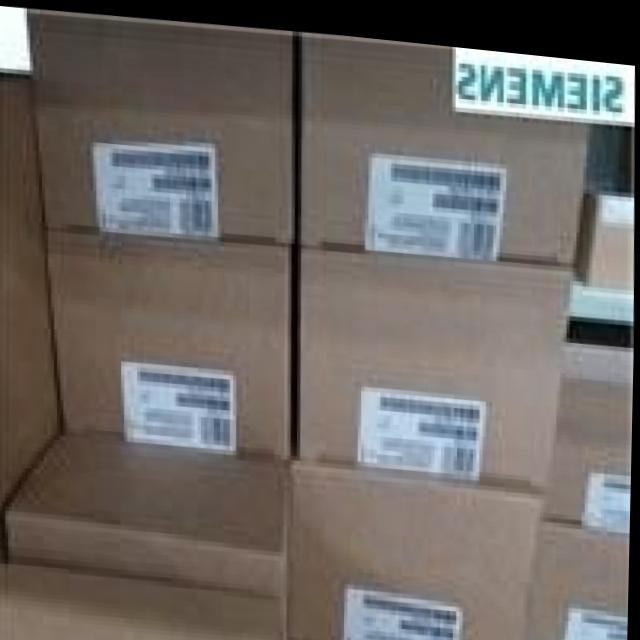box: (295, 241, 574, 491), (23, 7, 305, 242), (302, 25, 590, 254), (46, 229, 302, 453), (286, 448, 542, 640), (10, 438, 289, 594), (0, 67, 65, 563), (529, 513, 632, 640), (554, 334, 634, 435), (542, 430, 633, 515), (574, 176, 634, 276), (567, 263, 634, 338)
